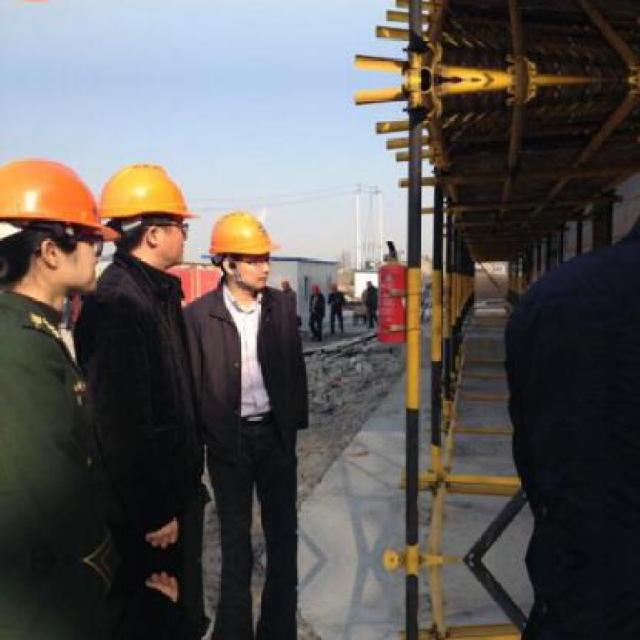helmet: (1, 161, 98, 304), (105, 161, 187, 270), (209, 208, 274, 290)
